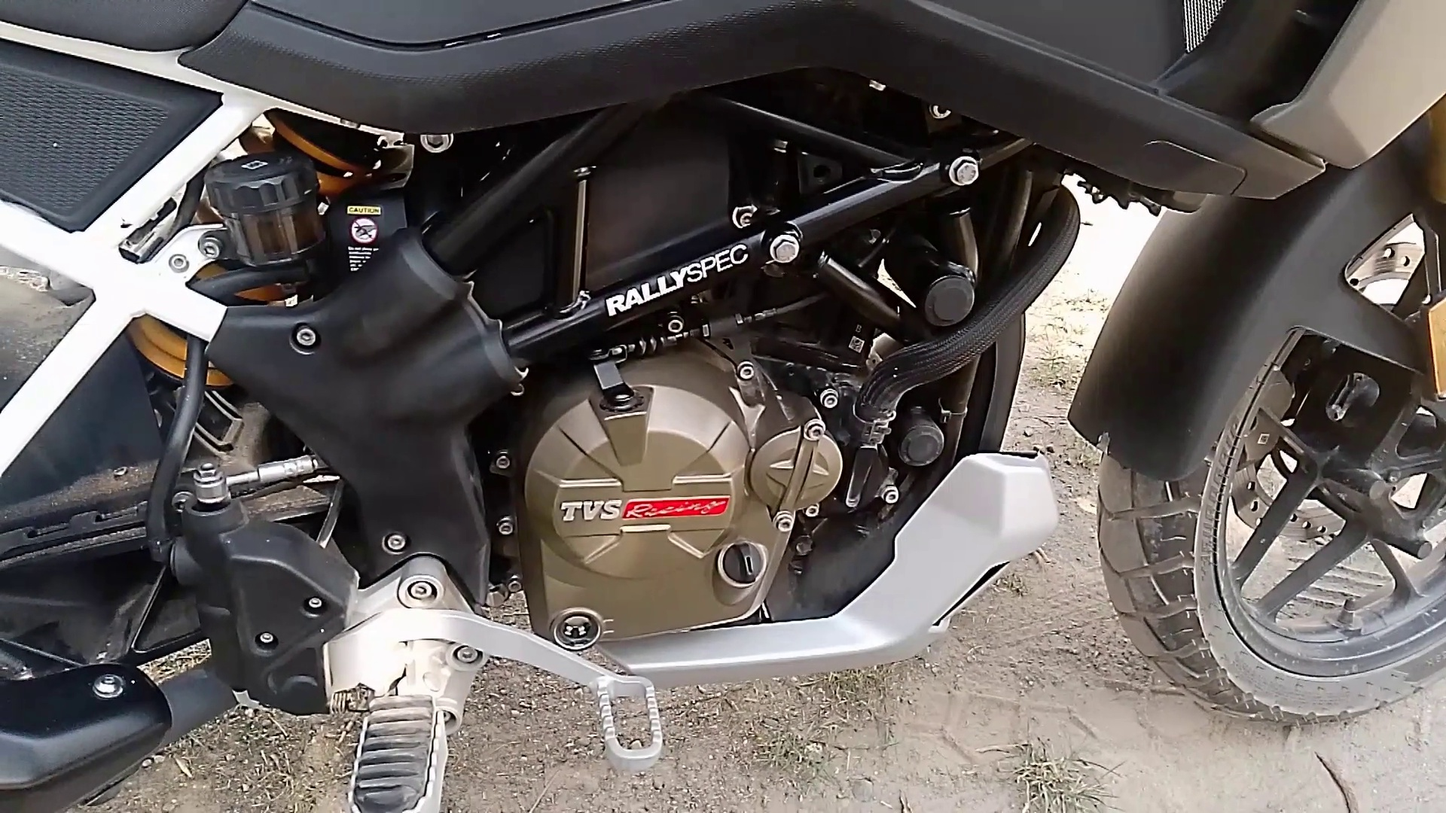engine: (461, 231, 859, 693)
oil_cap: (708, 514, 781, 606)
oil_marker: (550, 583, 621, 668)
